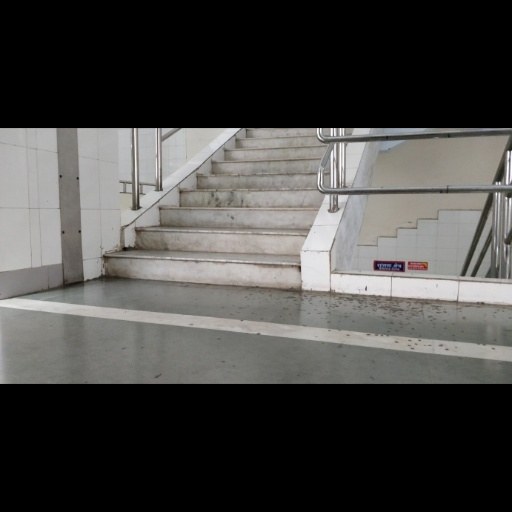Stairs: (105, 129, 324, 288)
